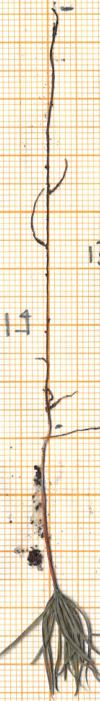flower: (0, 589, 97, 700)
root: (29, 5, 78, 440)
stem: (37, 445, 61, 584)
